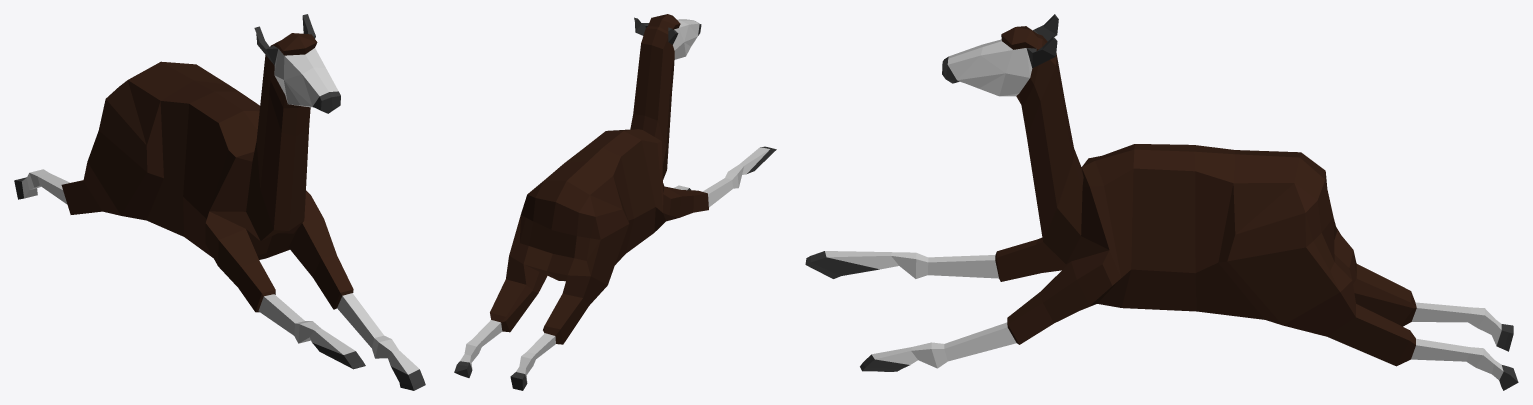
The model's file is Llama__1_000010.obj.
The picture shows the model from 3 angles, left to right: view 1: azimuth 30°, elevation 25°; view 2: azimuth 150°, elevation 25°; view 3: azimuth 270°, elevation 25°; orthographic projection. The views are drawn at different scales.
Parts seen in each view (by area): view 1: Llama_Cylinder; view 2: Llama_Cylinder; view 3: Llama_Cylinder.
Part boxes in pixels (box(x1,y1,x2,y2)): Llama_Cylinder: box(14, 14, 425, 390); Llama_Cylinder: box(454, 14, 776, 390); Llama_Cylinder: box(805, 14, 1518, 390).
Size of the model in its own units: 1.57 by 4.38 by 8.25.
